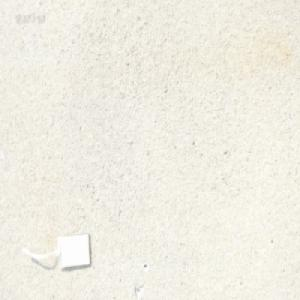LuggageTag: (18, 230, 92, 272)
